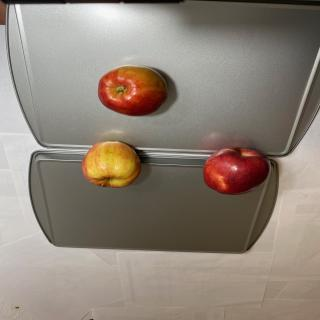Apple: (98, 65, 168, 116), (203, 147, 271, 195), (82, 140, 142, 188)
